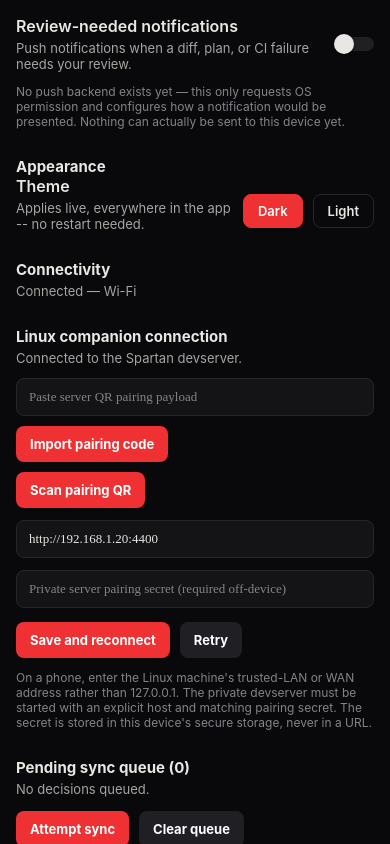
Scenario: SettingsScreen › imports a private-server pairing payload into the connection fields
This screenshot has width=390, height=844.
Expected: the text "Connected to the Spartan devserver." is shown, [16, 350, 242, 366]
Type "spartan://pair/v1?kind=private&endpoint=http%3A%2F%2F192.168.1.33%3A4400&pairing=paired" into the field with test id "pairing-payload-input" at coordinates (195, 397), box [16, 378, 374, 416]
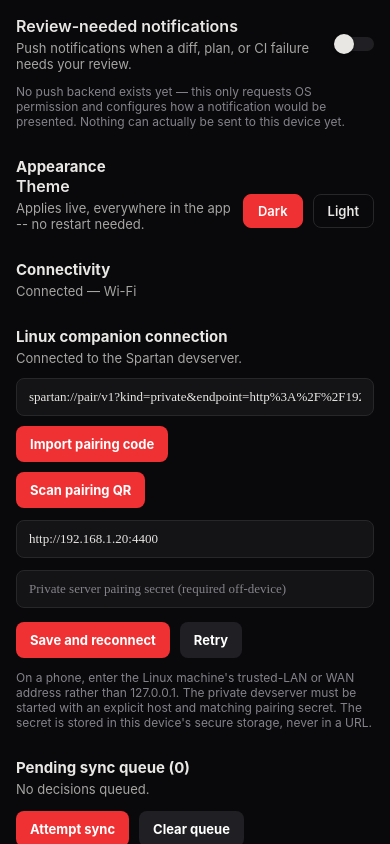
Click the text "Import pairing code" at coordinates (92, 444), box [30, 436, 154, 452]
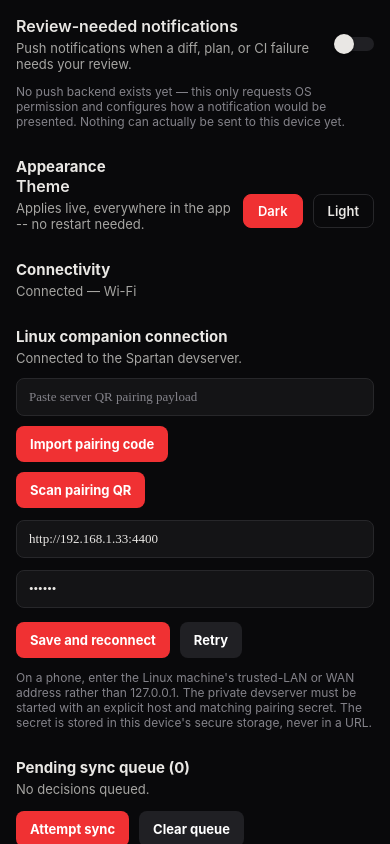
Expected: the field with test id "backend-endpoint-input" holds "http://192.168.1.33:4400", [16, 520, 374, 558]
Expected: the password field with test id "backend-pairing-token-input" holds "paired", [16, 570, 374, 608]
